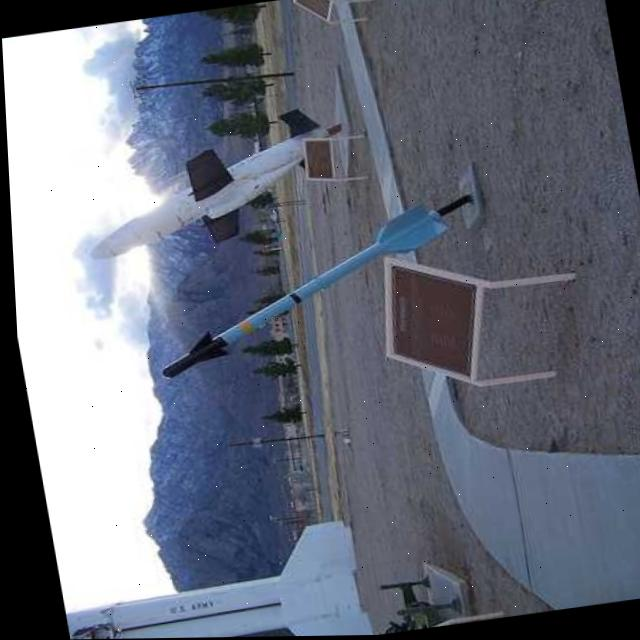missile: (129, 185, 495, 380), (67, 105, 361, 265)
